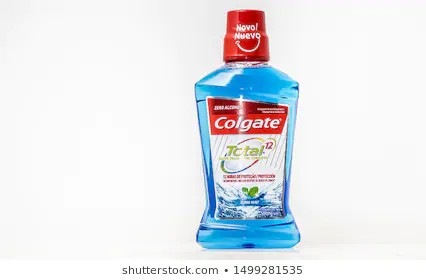colgate-Plax: (189, 2, 301, 250)
